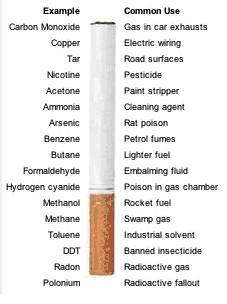cigarette: (83, 17, 120, 277)
